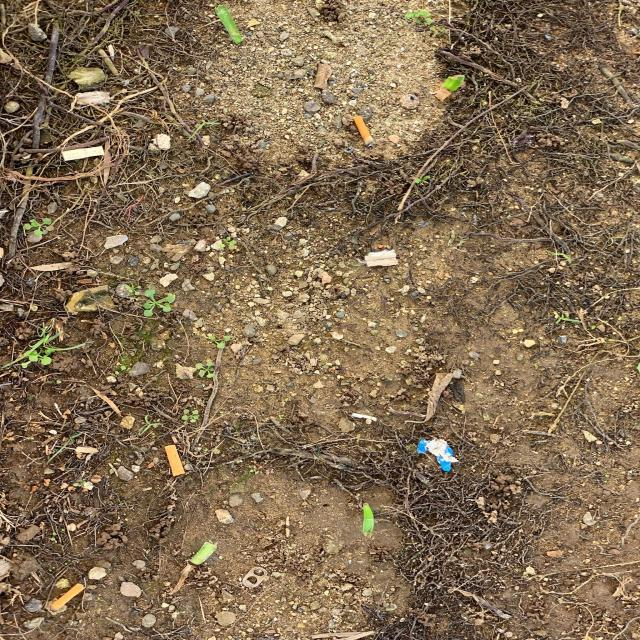litter: (418, 440, 460, 471), (50, 584, 86, 611), (163, 445, 186, 478), (354, 116, 375, 146), (62, 146, 105, 160), (242, 567, 268, 587), (352, 413, 378, 422)
